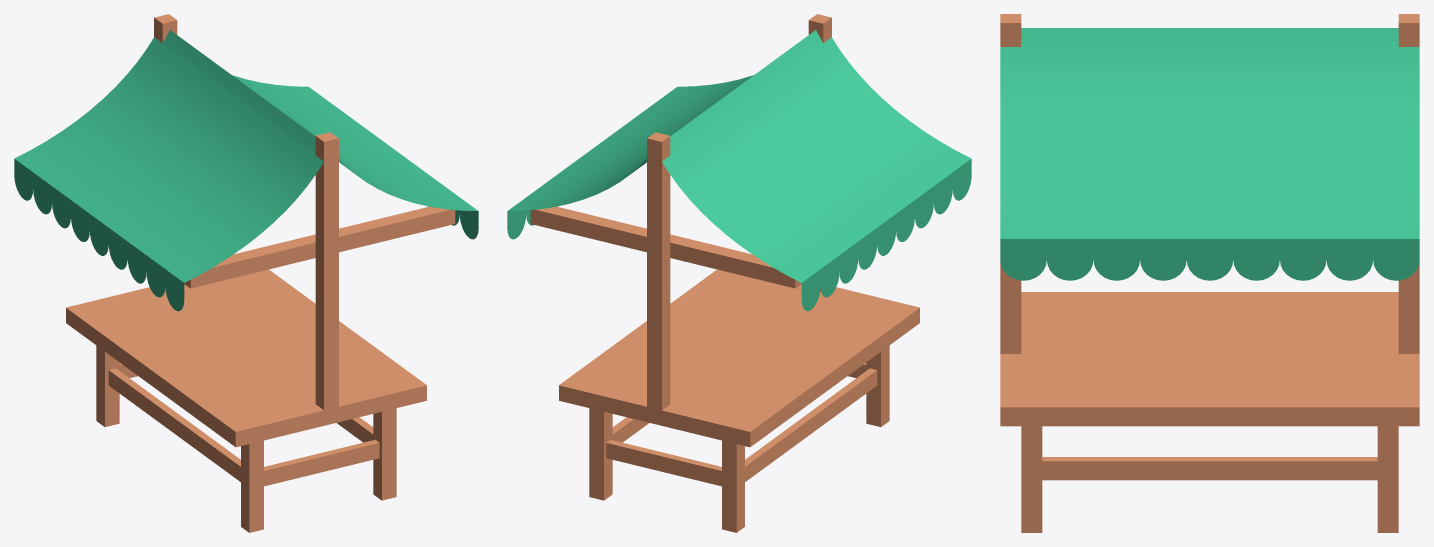
File: stallGreen.dae
The picture shows the model from 3 angles, left to right: view 1: azimuth 30°, elevation 25°; view 2: azimuth 150°, elevation 25°; view 3: azimuth 270°, elevation 25°; orthographic projection. The views are drawn at different scales.
Visible parts, largest first — view 1: stallGreen; view 2: stallGreen; view 3: stallGreen.
Boxes of the visible parts, x1,y1,x2,y2 form: stallGreen: (14,14,478,532); stallGreen: (507,14,971,532); stallGreen: (1000,14,1419,532).
Bounding box in the file's own units: 1 × 1.24 × 1.
